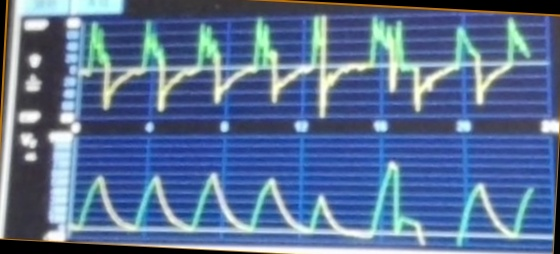Accumulation Flow: (85, 14, 532, 117)
Volume: (78, 143, 535, 242)
